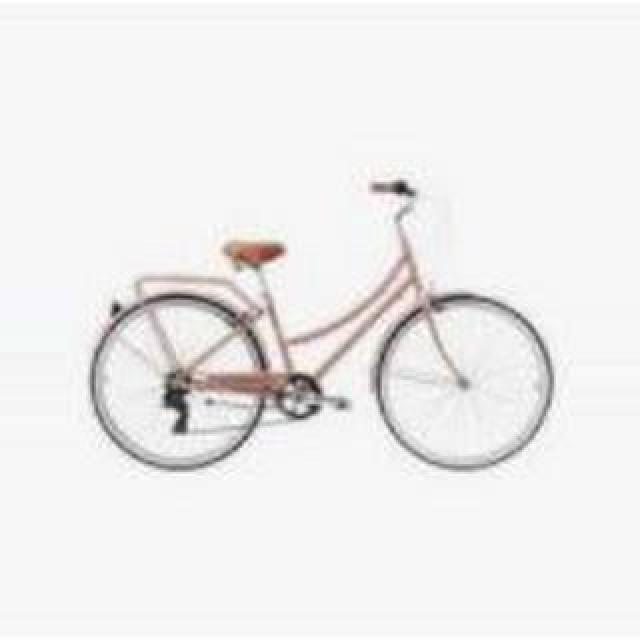Person: (89, 173, 557, 475)
